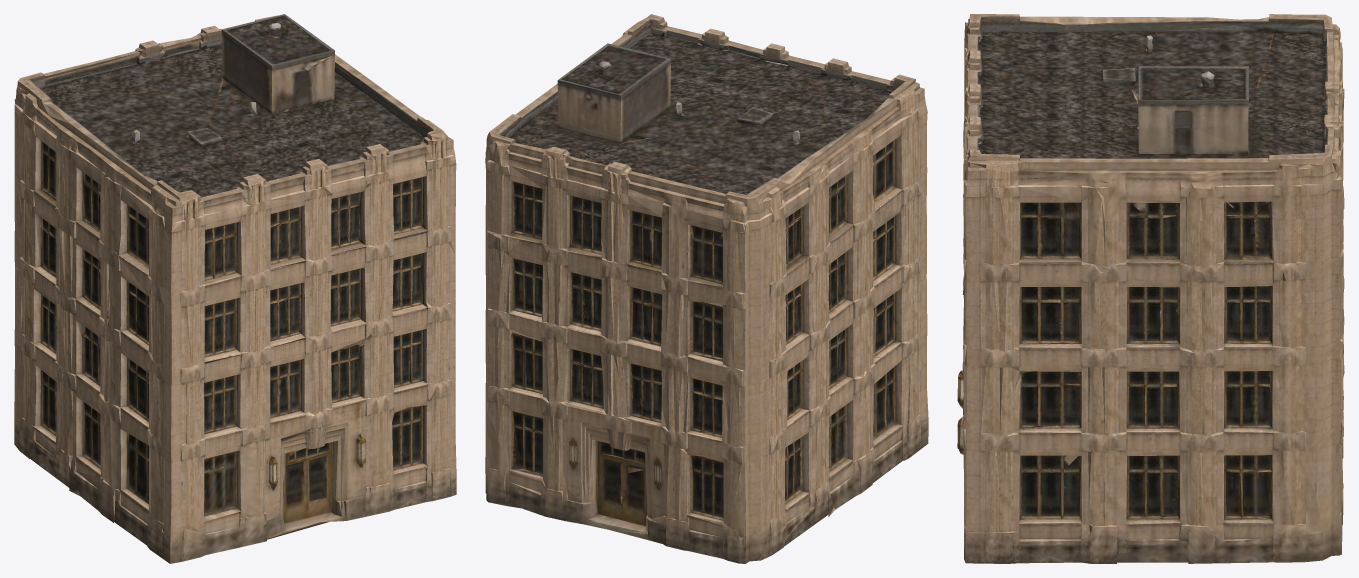
File: bld-artdeco.glb
The picture shows the model from 3 angles, left to right: view 1: azimuth 30°, elevation 25°; view 2: azimuth 150°, elevation 25°; view 3: azimuth 270°, elevation 25°; orthographic projection. The views are drawn at different scales.
Visible parts, largest first — view 1: output_unwrapped; view 2: output_unwrapped; view 3: output_unwrapped.
Part boxes in pixels (x1,y1,x2,y2): output_unwrapped: (14, 14, 456, 563); output_unwrapped: (485, 14, 928, 563); output_unwrapped: (957, 14, 1344, 563).
Bounding box in the file's own units: 1.4 × 1.9 × 1.48.
1 material, 1 textured.
